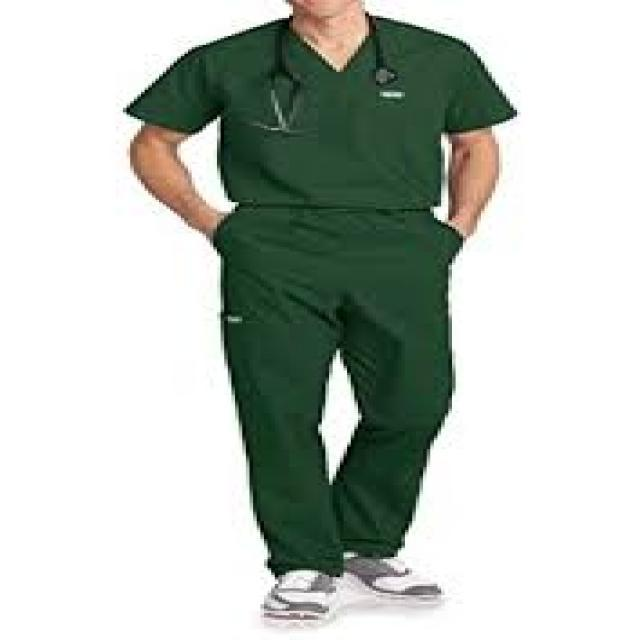stethoscope: (267, 52, 414, 148)
